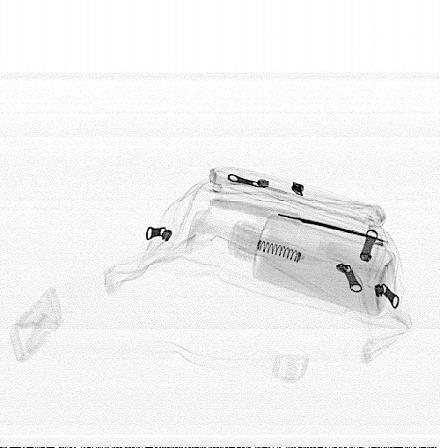Knife: (210, 197, 387, 242)
